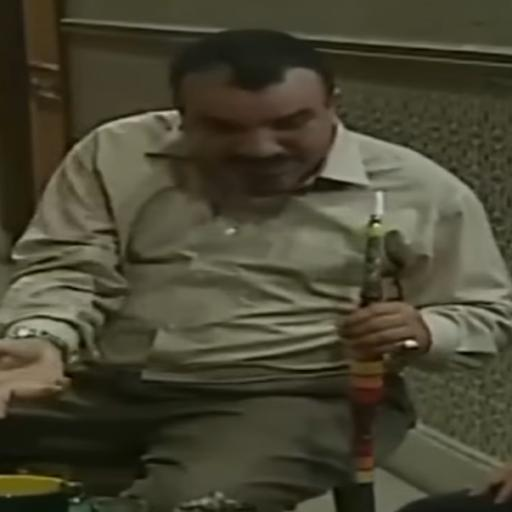slimane: (171, 39, 336, 196)
